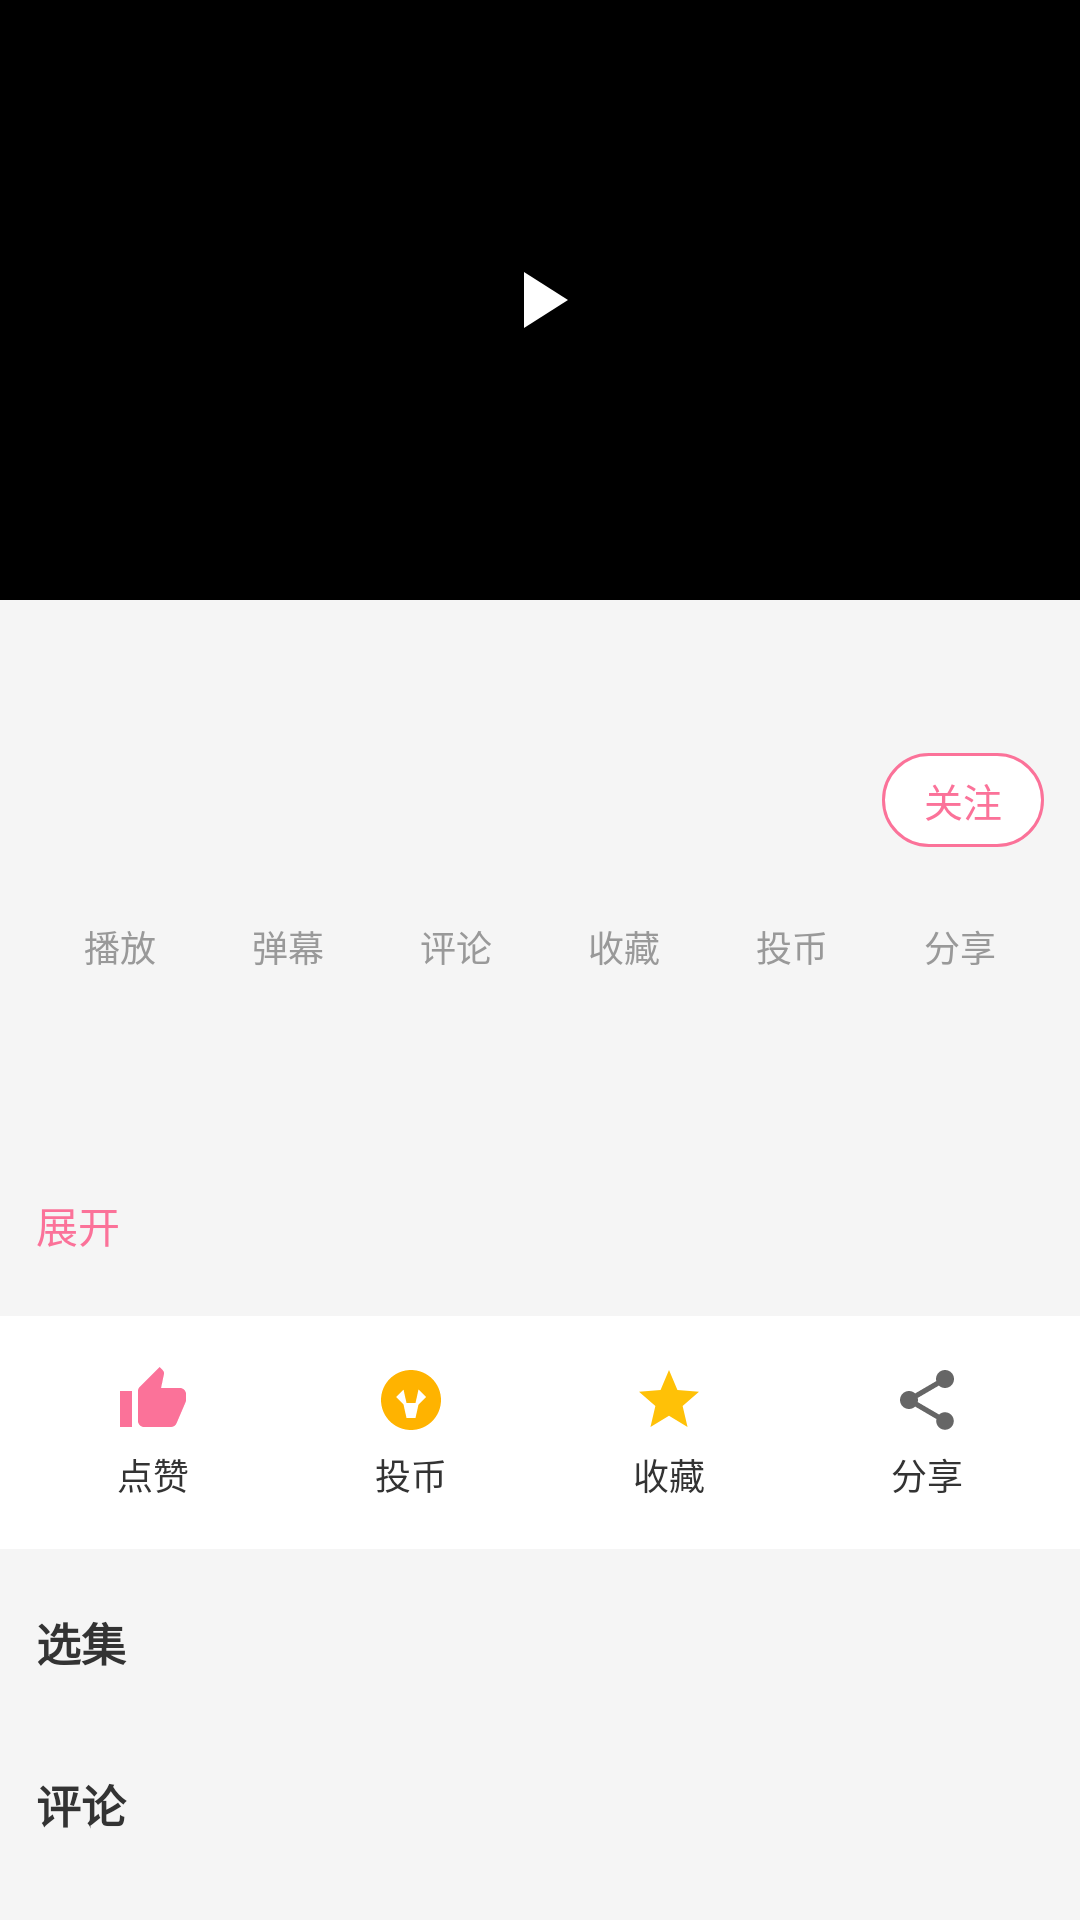

Named icons in this screenshot (1080×1920) and their bounding boxes, (x1, y1, x2, y2):
play: (524, 272, 568, 328)
